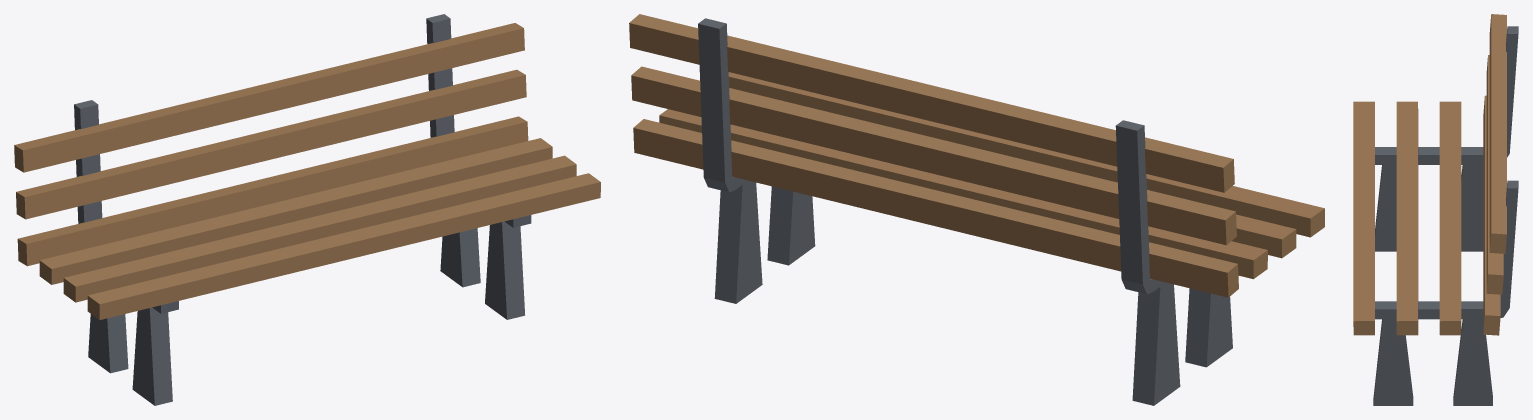
File: Road_Objects_Bank.fbx
The picture shows the model from 3 angles, left to right: view 1: azimuth 30°, elevation 25°; view 2: azimuth 150°, elevation 25°; view 3: azimuth 270°, elevation 25°; orthographic projection. The views are drawn at different scales.
Visible parts, largest first — view 1: Road_Objects_Bank; view 2: Road_Objects_Bank; view 3: Road_Objects_Bank.
Part boxes in pixels (left/top/right/bottom): Road_Objects_Bank: left=14, top=14, right=600, bottom=405; Road_Objects_Bank: left=629, top=14, right=1324, bottom=405; Road_Objects_Bank: left=1353, top=14, right=1518, bottom=405.
Size of the model in its own units: 191 by 88.52 by 60.85.
